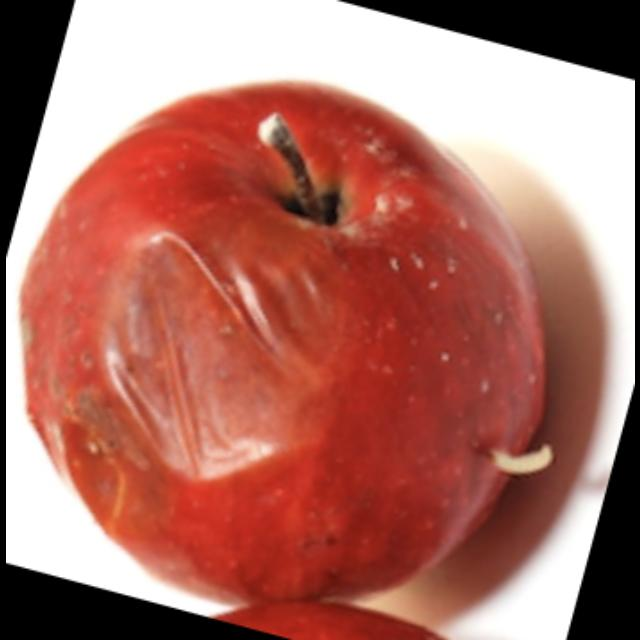Apel Tidak Segar: (16, 76, 544, 604)
